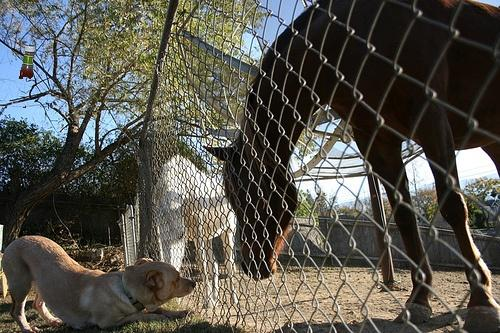tampered: (20, 46, 35, 108)
